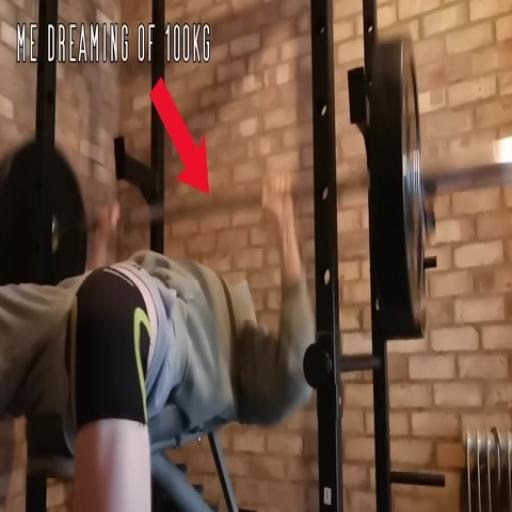exercise: (0, 150, 318, 510)
